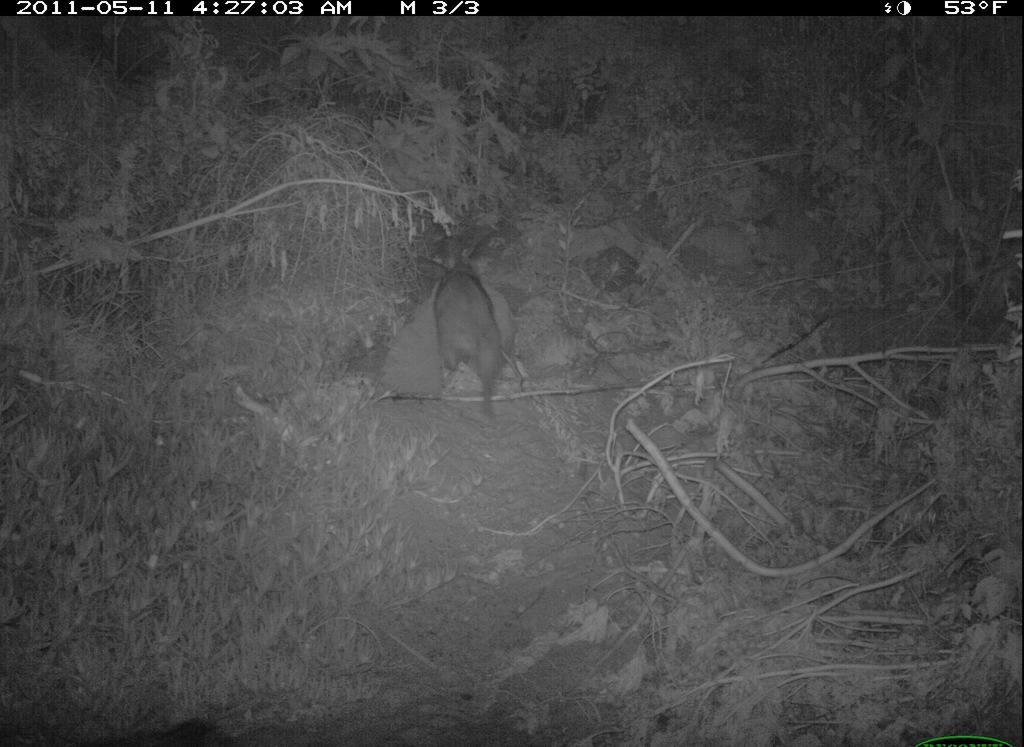raccoon: (414, 244, 513, 429)
